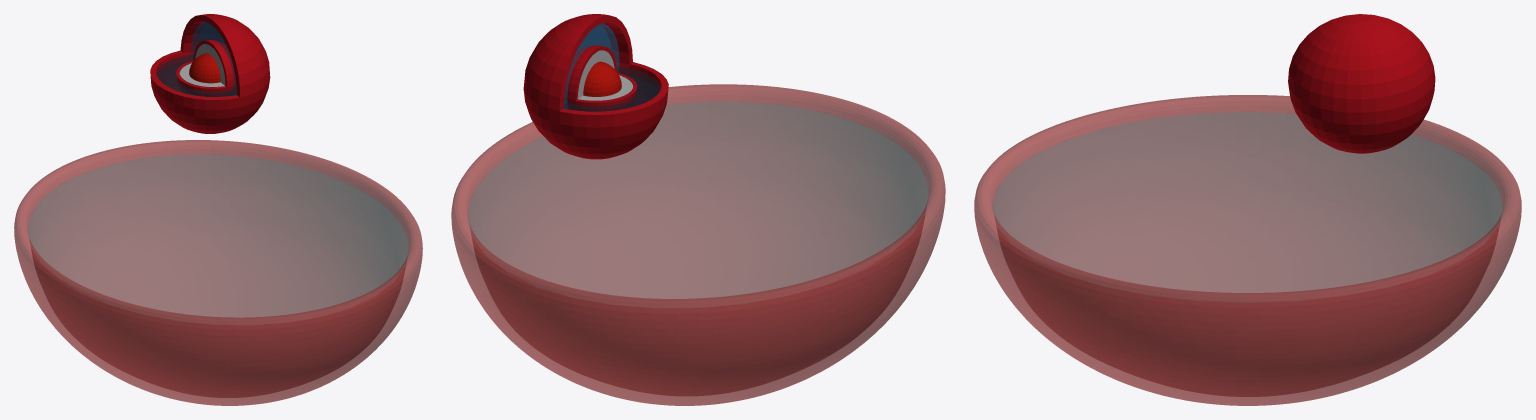
Rendered from cell.obj.
3 renders of one model, left to right at view 1: azimuth 30°, elevation 25°; view 2: azimuth 150°, elevation 25°; view 3: azimuth 270°, elevation 25°, orthographic. The views are drawn at different scales.
Visible parts, largest first — view 1: Sphere, Sphere.001, Sphere.002, Sphere.003_Sphere.008, Sphere.004_Sphere.006, Sphere.008_Sphere.011, Sphere.005_Sphere.007; view 2: Sphere, Sphere.001, Sphere.002, Sphere.003_Sphere.008, Sphere.004_Sphere.006, Sphere.008_Sphere.011, Sphere.005_Sphere.007, Sphere.006_Sphere.009; view 3: Sphere, Sphere.001, Sphere.002.
Part boxes in pixels (bbox=[...]): Sphere: bbox=[14, 140, 422, 405]; Sphere.001: bbox=[28, 154, 408, 317]; Sphere.002: bbox=[150, 14, 270, 133]; Sphere.003_Sphere.008: bbox=[176, 40, 236, 96]; Sphere.004_Sphere.006: bbox=[156, 55, 236, 96]; Sphere.008_Sphere.011: bbox=[189, 53, 222, 83]; Sphere.005_Sphere.007: bbox=[191, 21, 236, 94]; Sphere: bbox=[451, 84, 945, 405]; Sphere.001: bbox=[468, 102, 928, 298]; Sphere.002: bbox=[523, 14, 668, 159]; Sphere.003_Sphere.008: bbox=[564, 45, 637, 111]; Sphere.004_Sphere.006: bbox=[563, 66, 660, 111]; Sphere.008_Sphere.011: bbox=[583, 61, 621, 96]; Sphere.005_Sphere.007: bbox=[563, 23, 619, 108]; Sphere.006_Sphere.009: bbox=[577, 50, 614, 98]; Sphere: bbox=[974, 95, 1521, 405]; Sphere.001: bbox=[993, 112, 1502, 292]; Sphere.002: bbox=[1288, 14, 1435, 153].
Bounding box in the file's own units: 6.33 × 5.62 × 7.16.
